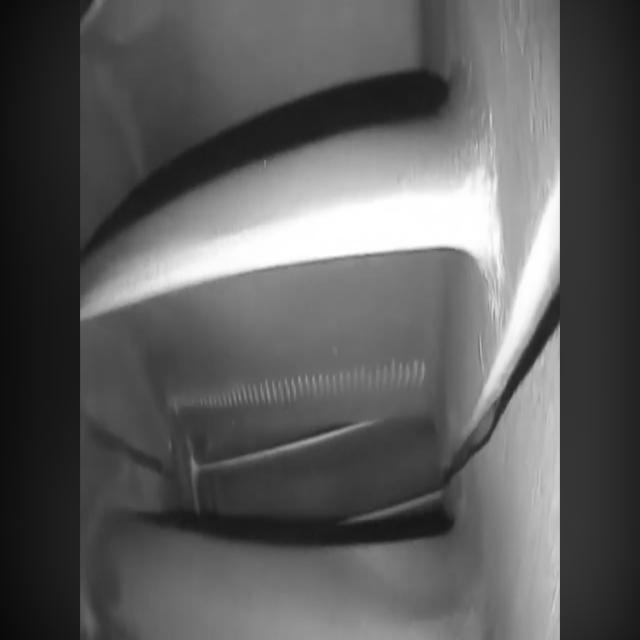turbine_blade: (80, 78, 497, 436), (80, 0, 442, 185)
